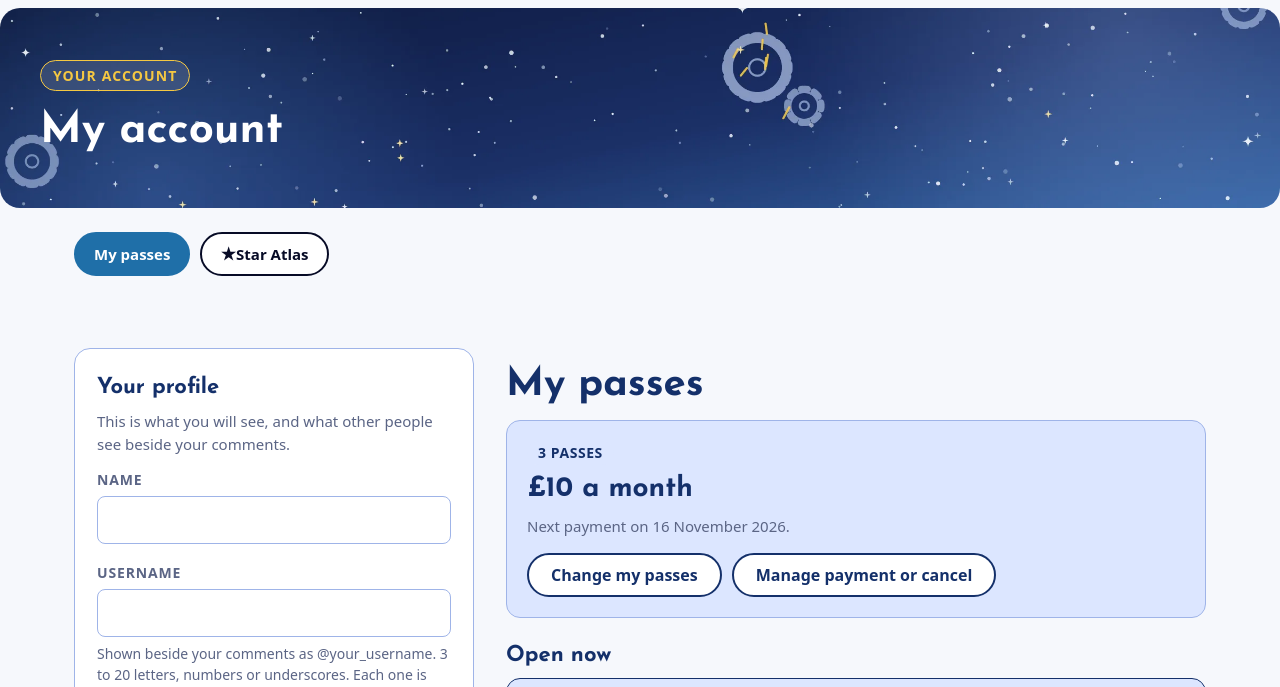
Scenario: someone holding passes › says what went wrong, kindly, if the billing page cannot be opened, and lets them try again
Click the button "Manage payment or cancel". click: click(864, 575)
box: [732, 553, 996, 597]
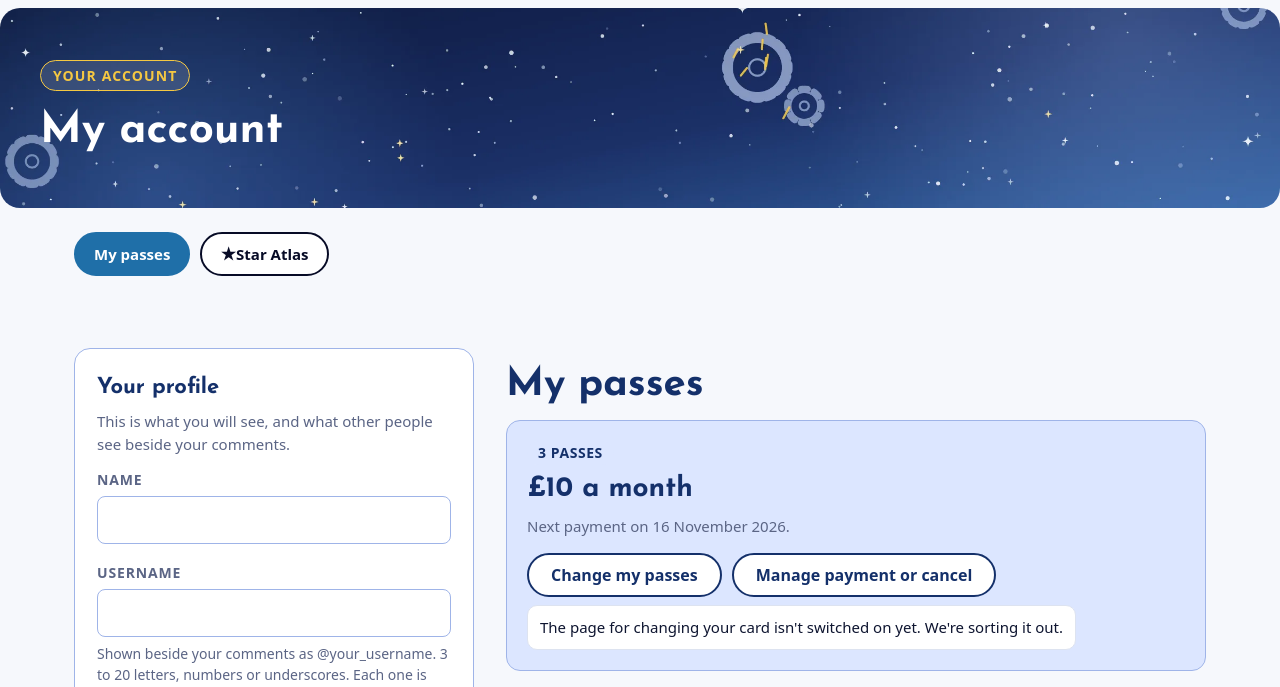
Expected: the text "The page for changing your card isn't switched on yet. We're sorting it out." is shown, [527, 605, 1076, 650]
